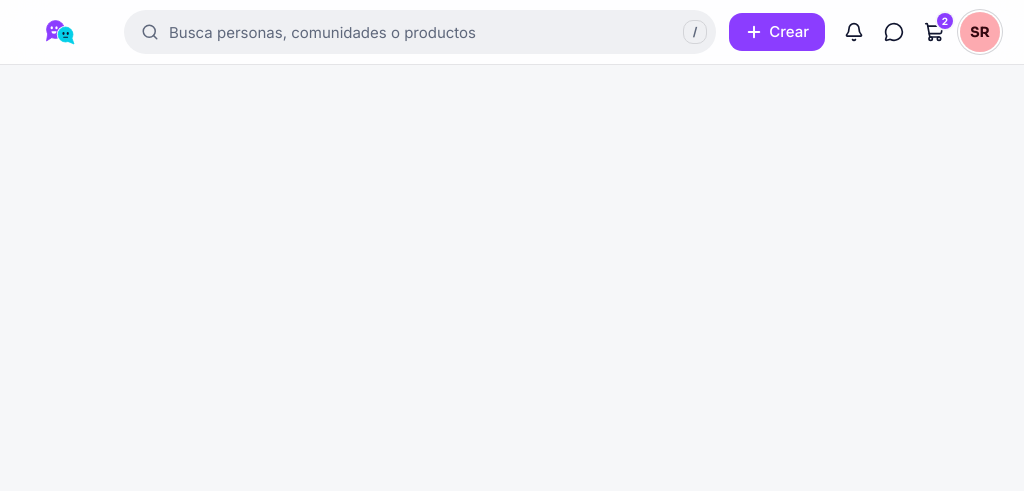
TopBar › «Crear» abre sus opciones ahí mismo; «Publicación» abre la ventana para escribir
Click the button "Crear" at (777, 32), box left=728, top=12, right=826, bottom=52
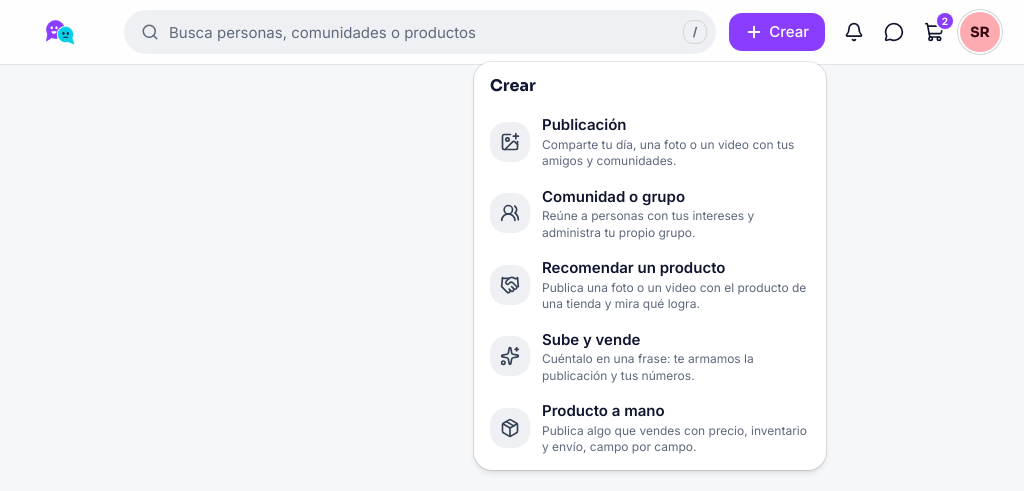
Expected: the number of menu items is 5, left=480, top=106, right=820, bottom=178; left=490, top=186, right=754, bottom=240; left=480, top=249, right=820, bottom=320; left=490, top=330, right=754, bottom=382; left=480, top=392, right=820, bottom=464
